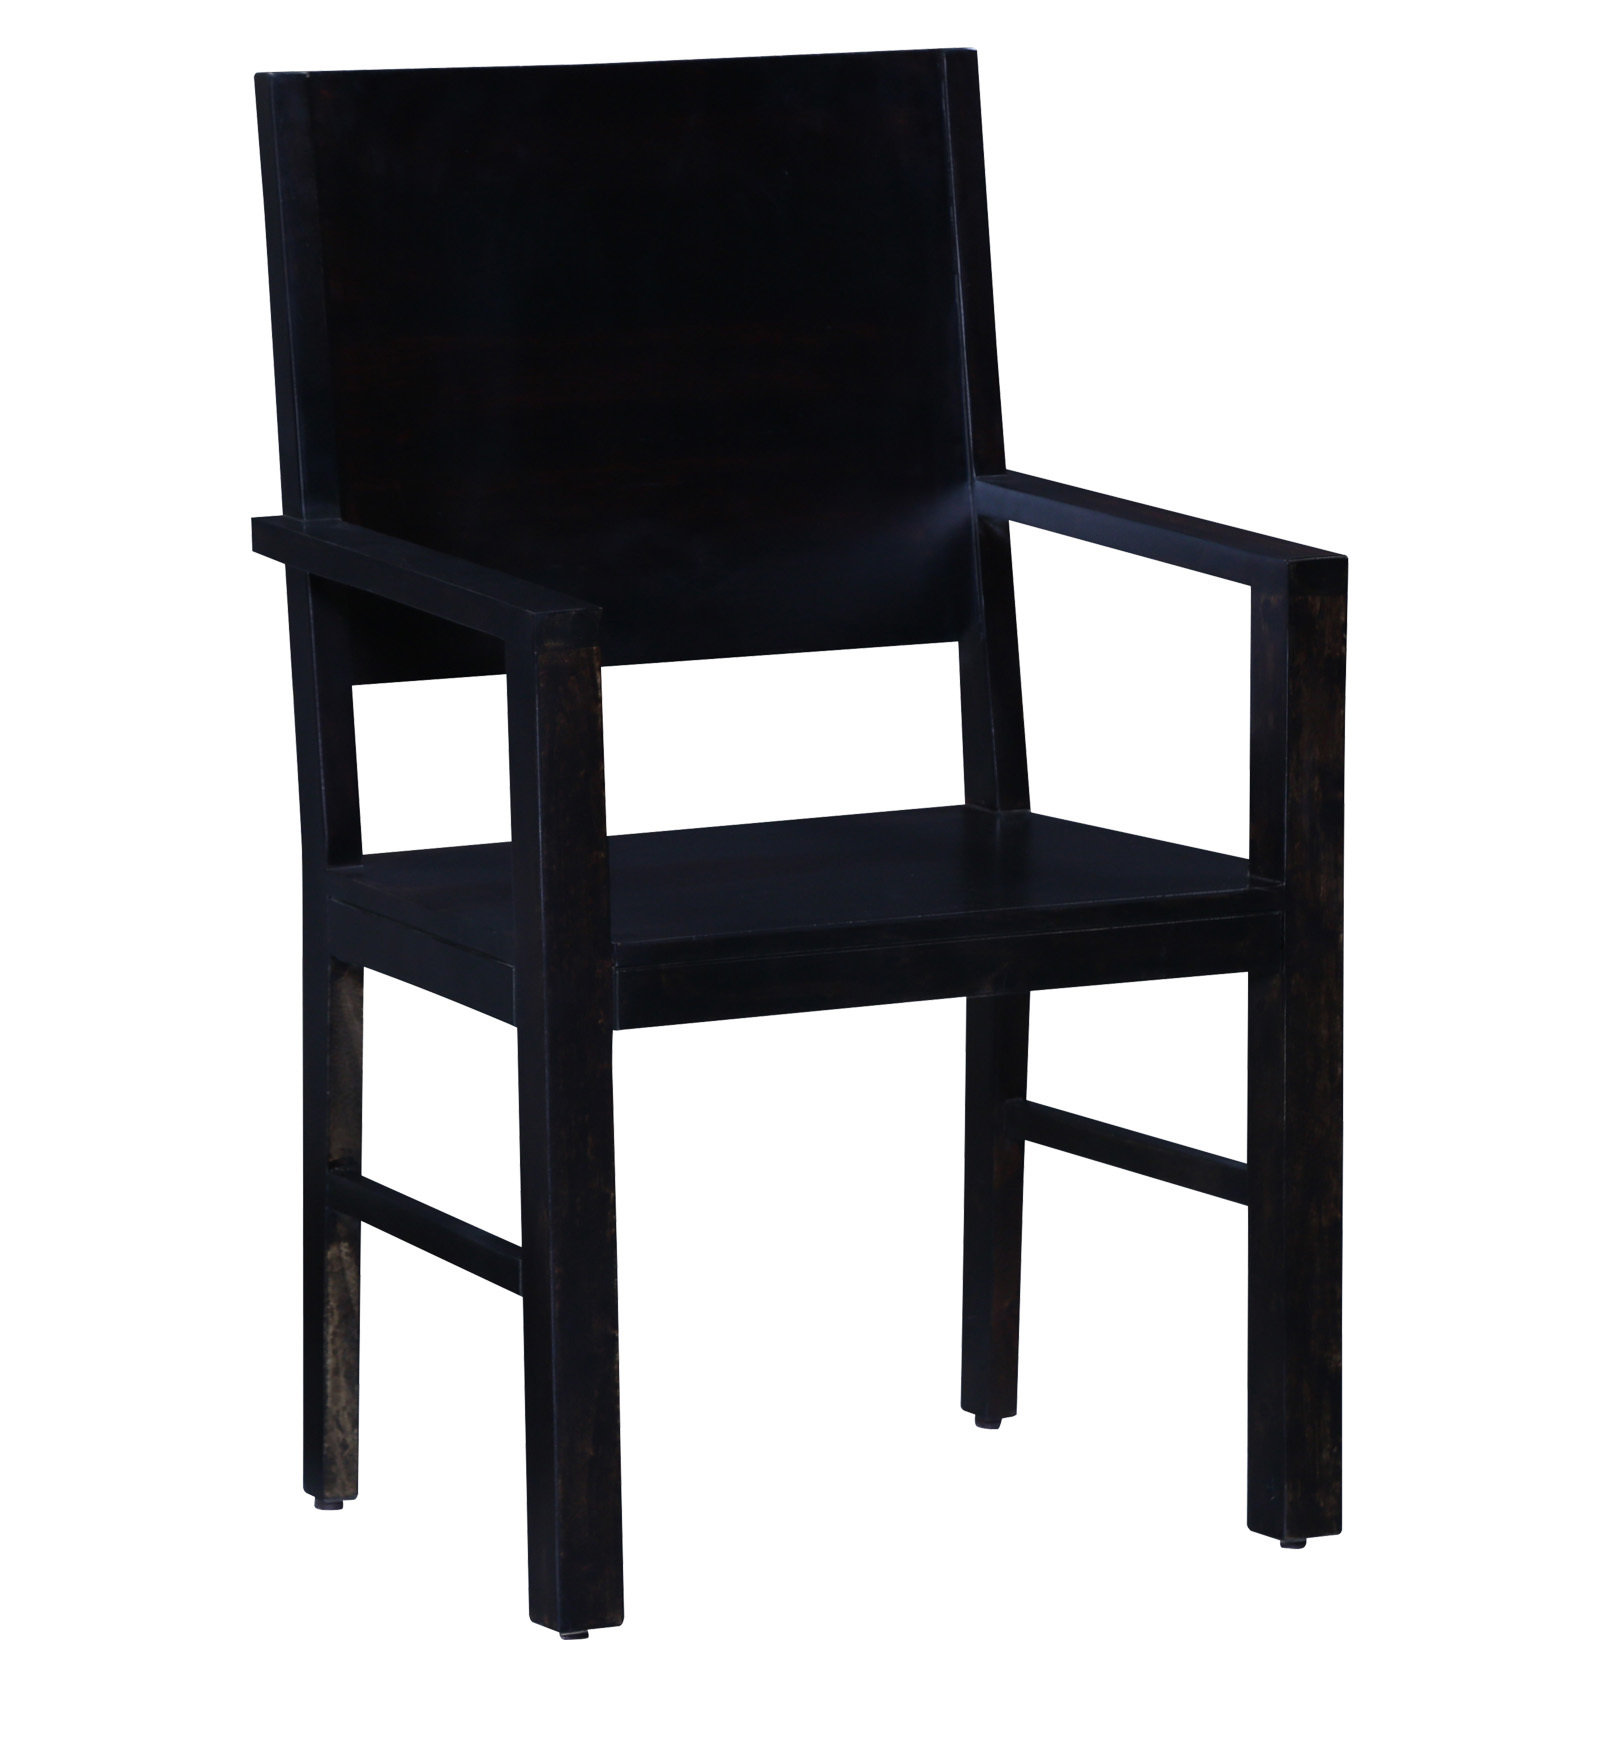Oriel Arm Chair in Warm Chestnut Finish by Woodsworth: (234, 37, 1362, 1640)
